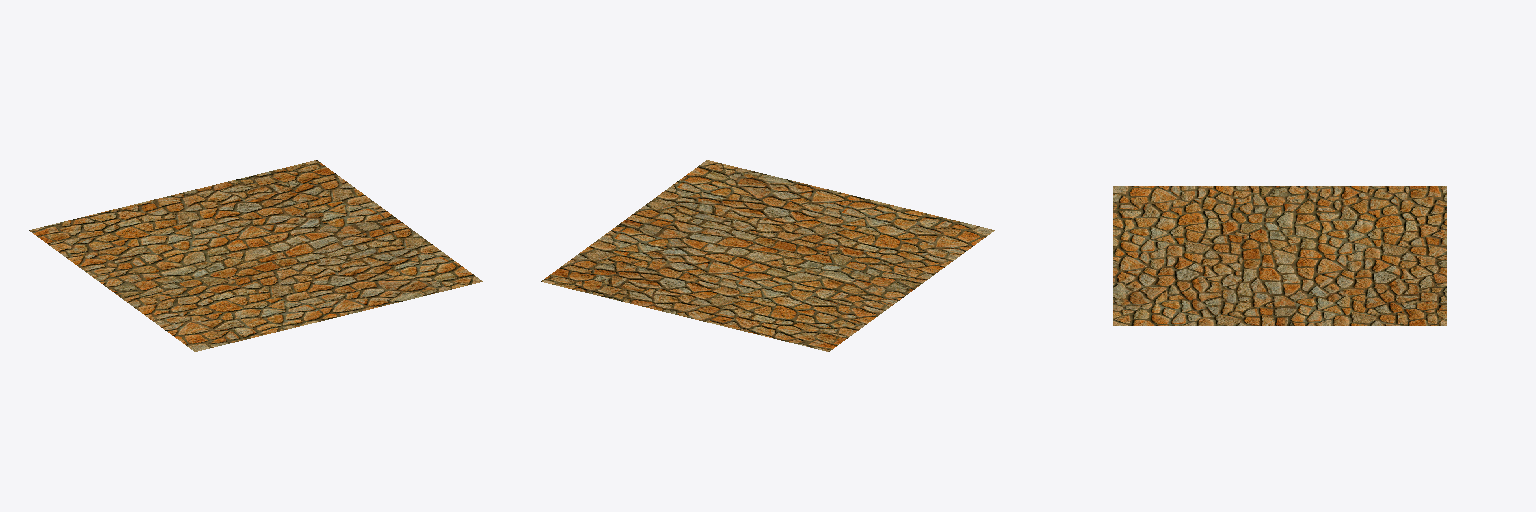
3 renders of one model, left to right at view 1: azimuth 30°, elevation 25°; view 2: azimuth 150°, elevation 25°; view 3: azimuth 270°, elevation 25°, orthographic.
Parts seen in each view (by area): view 1: Plane; view 2: Plane; view 3: Plane.
Boxes of the visible parts, x1,y1,x2,y2 form: Plane: [29, 160, 482, 351]; Plane: [541, 160, 994, 351]; Plane: [1113, 186, 1446, 325].
Bounding box in the file's own units: 400 × 0 × 400.
Materials: 1 (1 with a texture image).